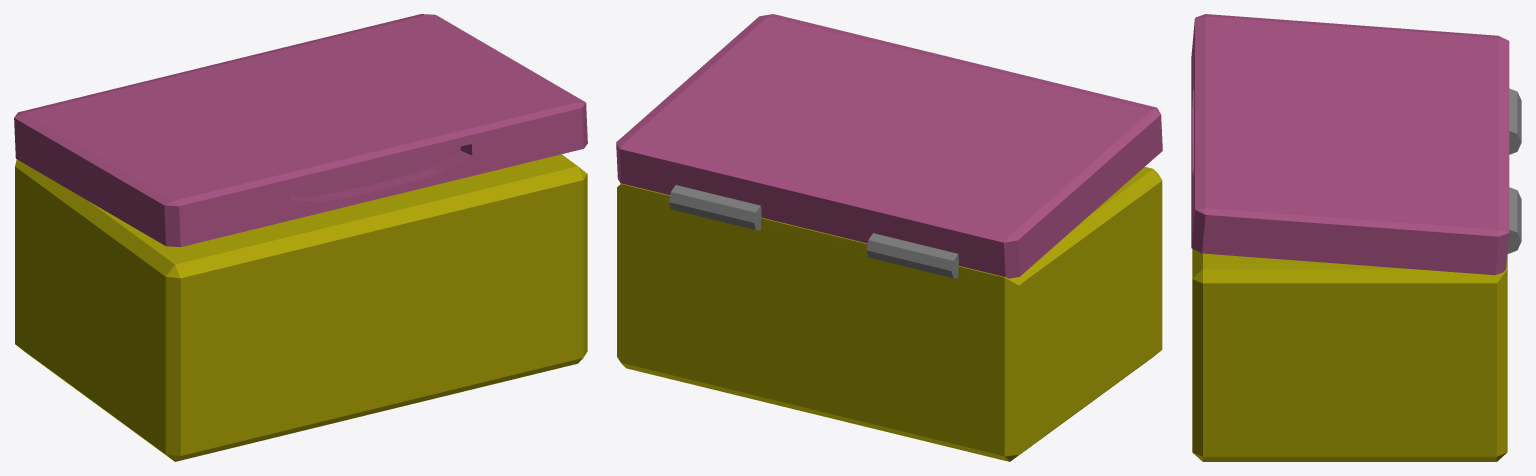
Rendered from ToyBox_01 1.fbx.
The picture shows the model from 3 angles, left to right: view 1: azimuth 30°, elevation 25°; view 2: azimuth 150°, elevation 25°; view 3: azimuth 270°, elevation 25°; orthographic projection. The views are drawn at different scales.
Visible parts, largest first — view 1: pCylinder8; view 2: pCylinder8; view 3: pCylinder8.
Boxes of the visible parts, x1,y1,x2,y2 form: pCylinder8: (14, 14, 587, 461); pCylinder8: (616, 14, 1162, 461); pCylinder8: (1191, 14, 1521, 461).
Size of the model in its own units: 15.42 by 9.08 by 10.7.
